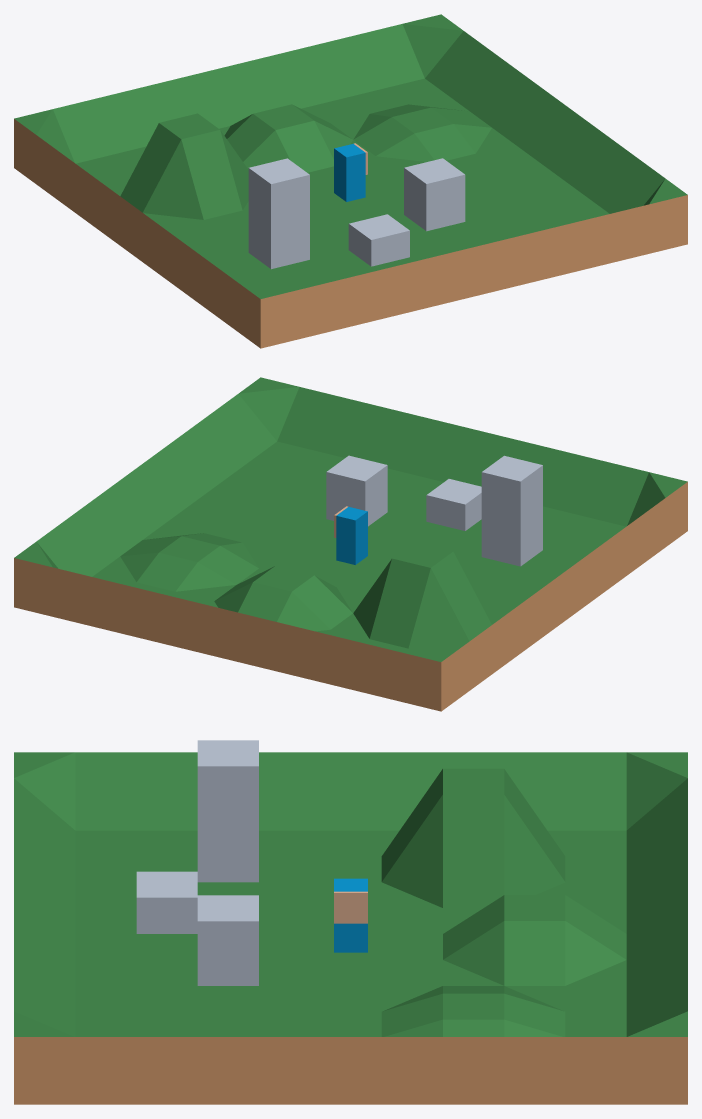
The model's file is blender.glb.
3 renders of one model, top to bottom at view 1: azimuth 30°, elevation 25°; view 2: azimuth 150°, elevation 25°; view 3: azimuth 270°, elevation 25°, orthographic. The views are drawn at different scales.
Parts seen in each view (by area): view 1: Stage, Player; view 2: Stage, Player; view 3: Stage, Player.
Boxes of the visible parts, bbox=[...] form: Stage: bbox=[14, 14, 687, 348]; Player: bbox=[334, 143, 367, 201]; Stage: bbox=[14, 377, 687, 711]; Player: bbox=[334, 506, 367, 564]; Stage: bbox=[14, 740, 687, 1104]; Player: bbox=[334, 878, 367, 952].
Size of the model in its own units: 40 by 8.6 by 40.
1 material, 1 textured.
